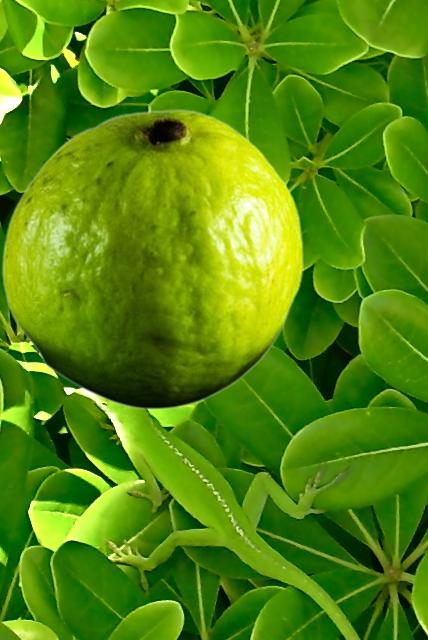guava: (1, 109, 302, 409)
